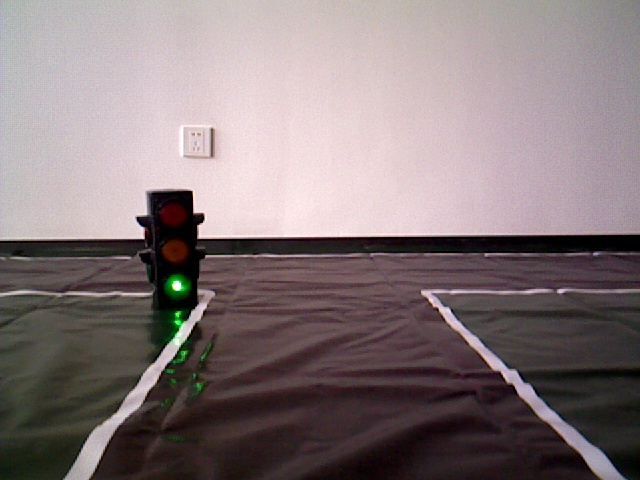green: (148, 196, 200, 300)
